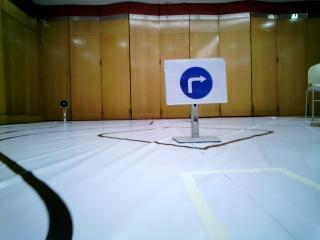right: (166, 62, 227, 102)
